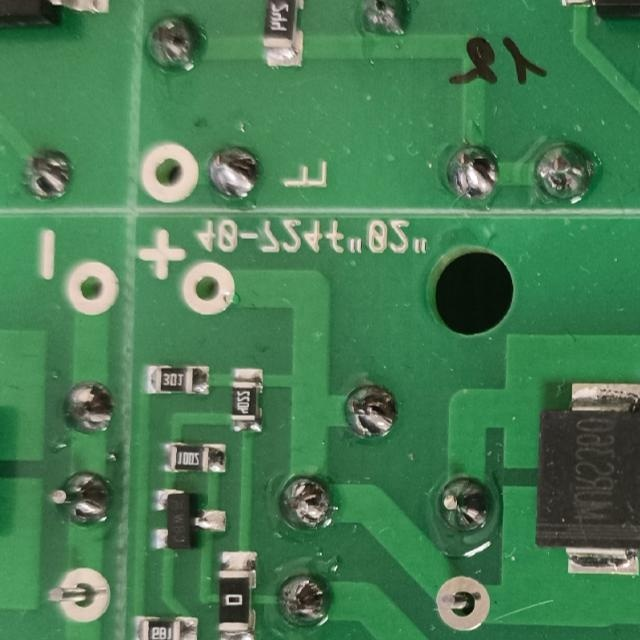chip-resistor: (215, 546, 258, 640), (263, 0, 306, 72), (155, 440, 230, 476), (227, 365, 265, 435), (141, 362, 211, 394), (130, 612, 199, 640)
diode: (534, 377, 640, 579)
transistor: (150, 485, 230, 555)
